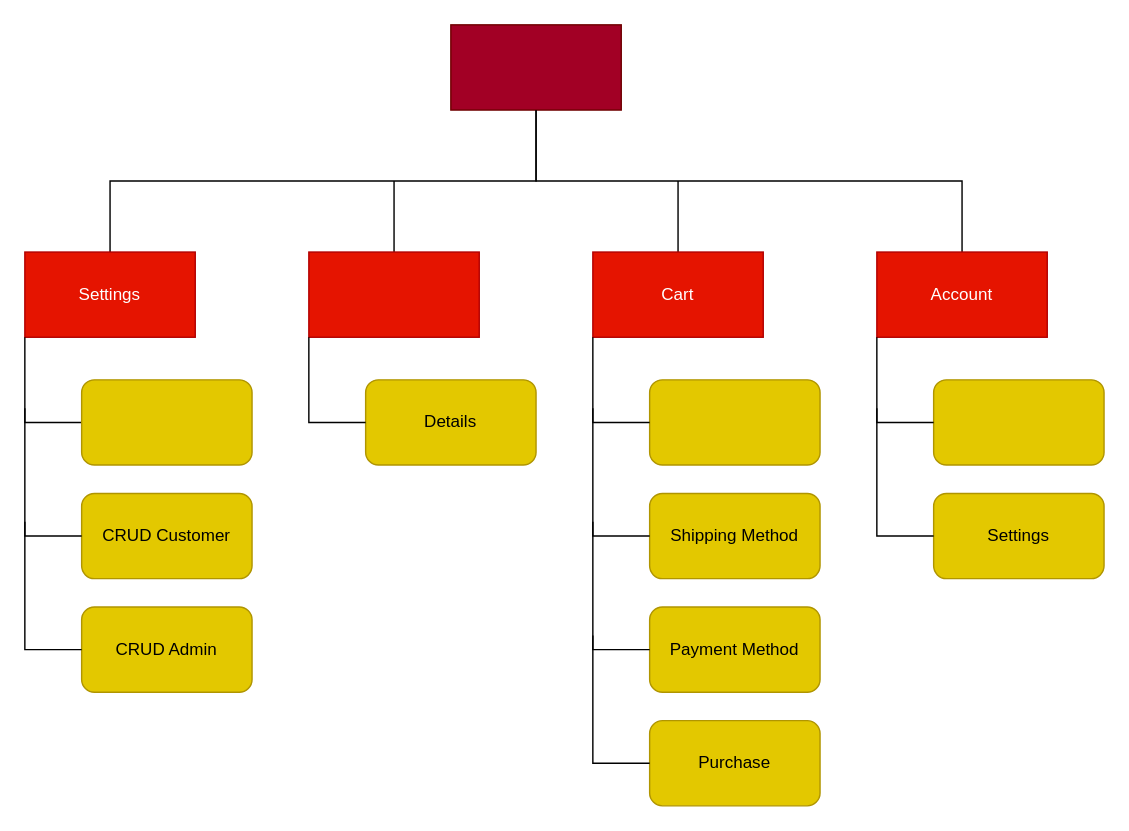
This 1129x831 diagram has some shape labels left out. The centre of each missing label's shape, as x and y in pixels:
"CRUD Product" belongs at (166,421).
"Home" belongs at (535,66).
"Order Summary" belongs at (734,421).
"Product" belongs at (393,294).
"Profile" belongs at (1018,421).
